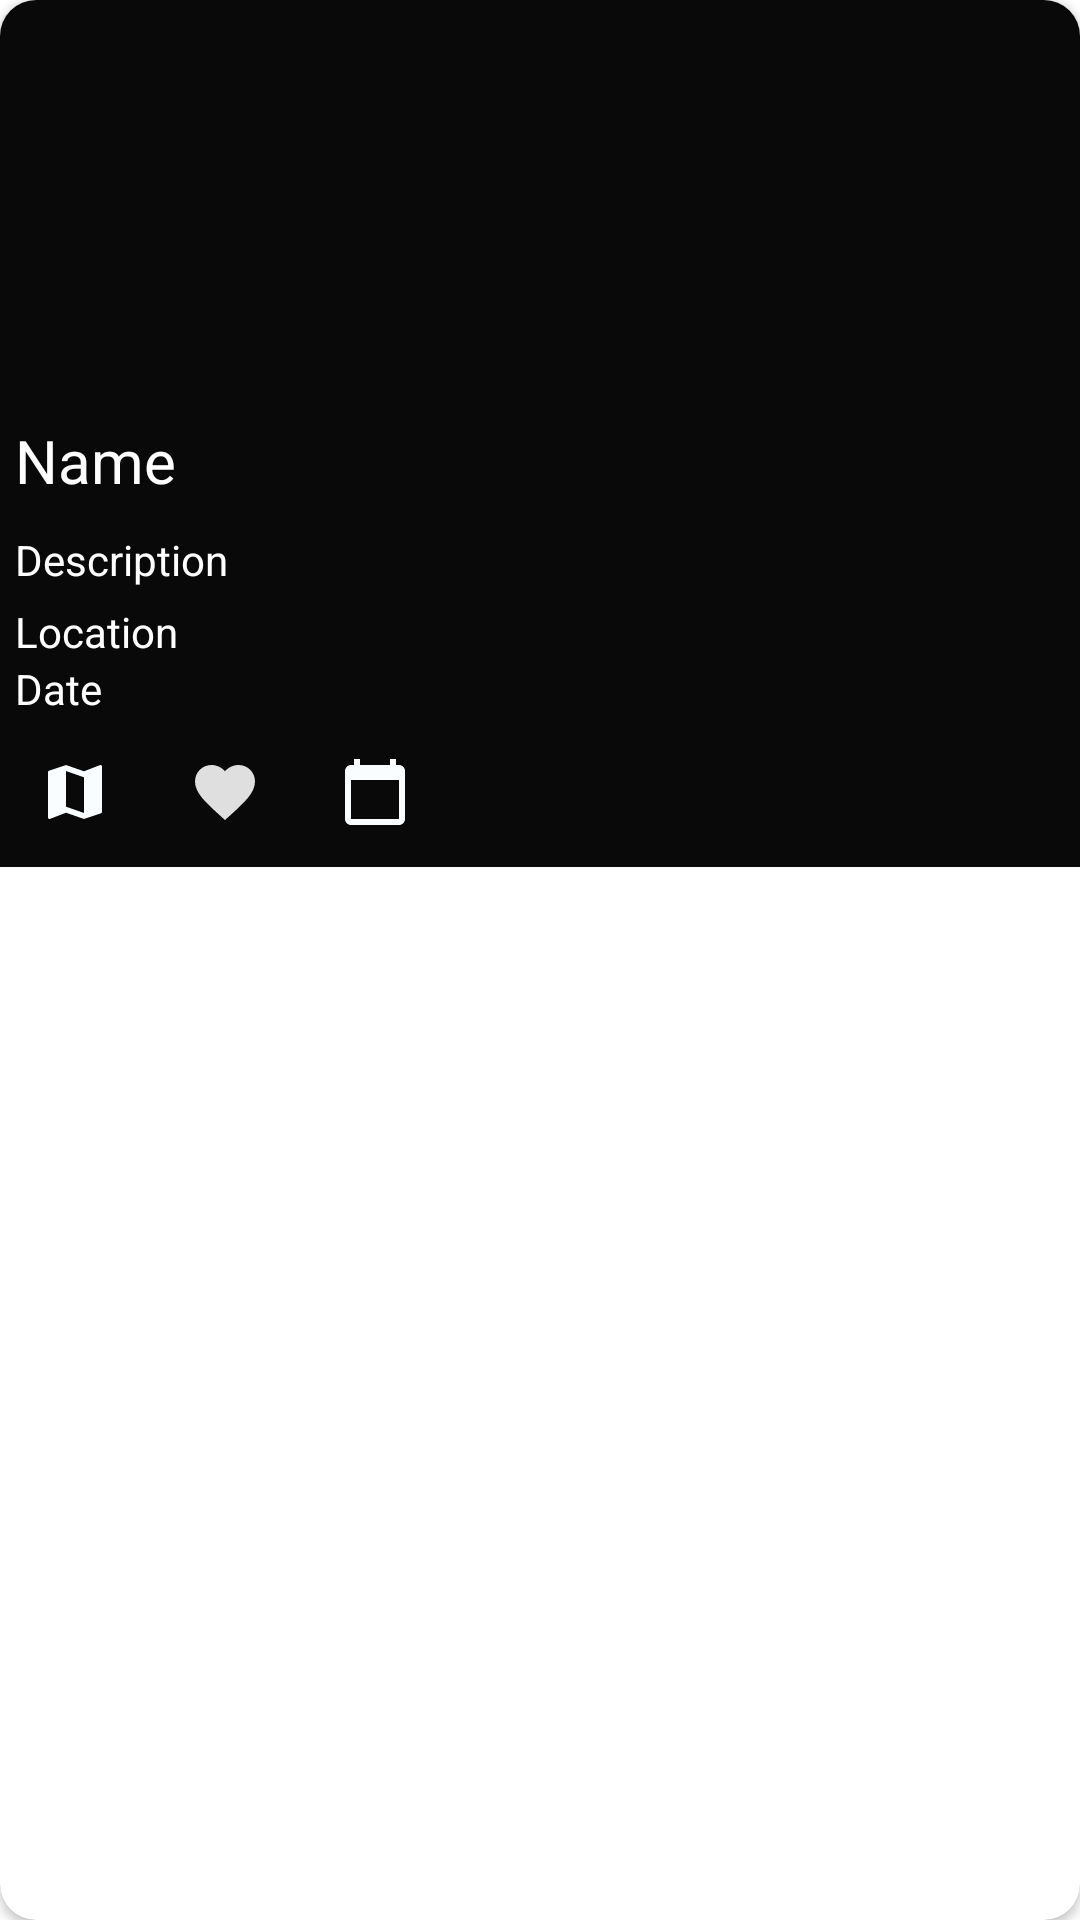

Icon bounding boxes for this 1080w x 1920h phone screenshot, format [x1,y1,x2,y2]:
calendar: [345,759,405,825]
map: [48,765,102,819]
toolbarfavorite: [195,765,255,820]
